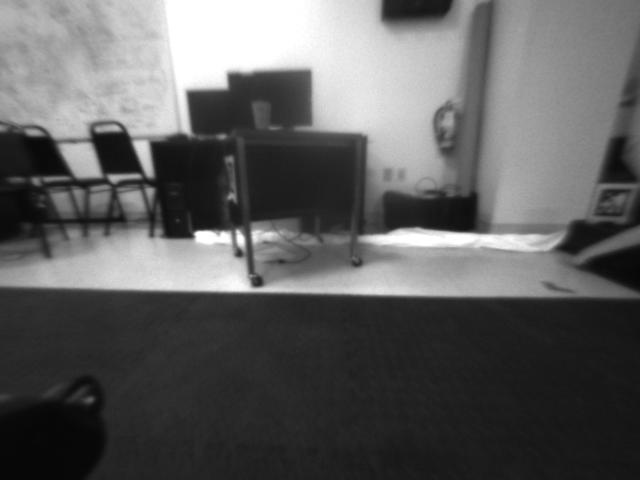coffee_cup: (249, 99, 273, 129)
